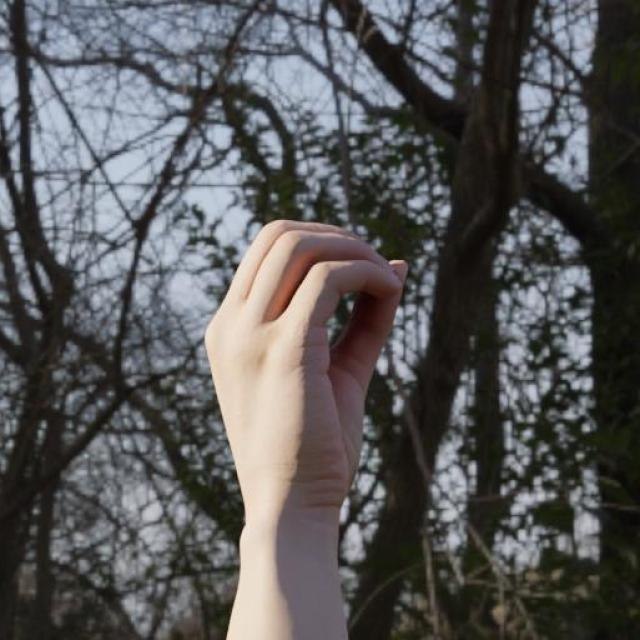O: (194, 193, 425, 545)
